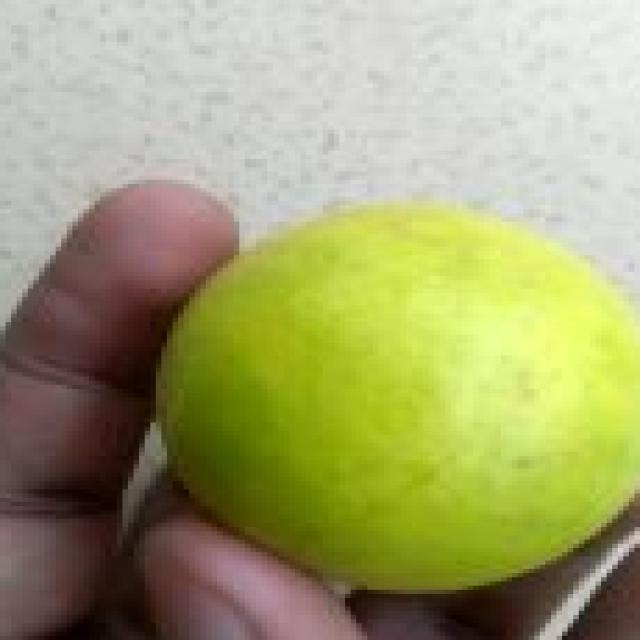Good_Lime-10-21-days: (150, 201, 640, 598)
